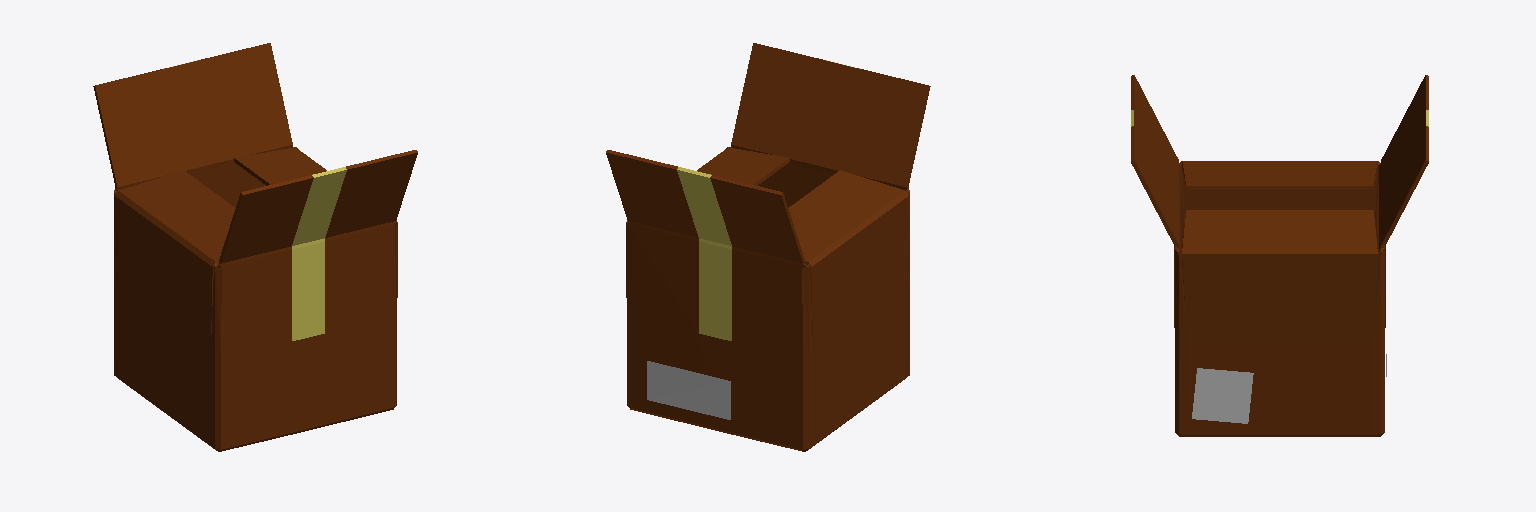
File: Cardboard.028.obj
3 views of the same model, side by side, from view 1: azimuth 30°, elevation 25°; view 2: azimuth 150°, elevation 25°; view 3: azimuth 270°, elevation 25° (orthographic).
Visible parts, largest first — view 1: Cardboard.028_Cube.013; view 2: Cardboard.028_Cube.013, codeBArre.017_codeBArre.011; view 3: Cardboard.028_Cube.013, sign2.017_sign2.011.
Part boxes in pixels (left/top/right/bottom): Cardboard.028_Cube.013: left=93, top=43, right=417, bottom=451; Cardboard.028_Cube.013: left=606, top=43, right=930, bottom=451; codeBArre.017_codeBArre.011: left=647, top=361, right=730, bottom=419; Cardboard.028_Cube.013: left=1131, top=75, right=1428, bottom=436; sign2.017_sign2.011: left=1192, top=368, right=1253, bottom=423.
Bounding box in the file's own units: 0.384 × 0.5509 × 0.5386.